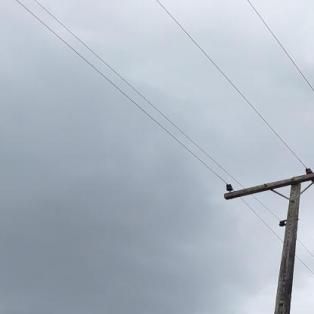Poste: (230, 177, 307, 314)
